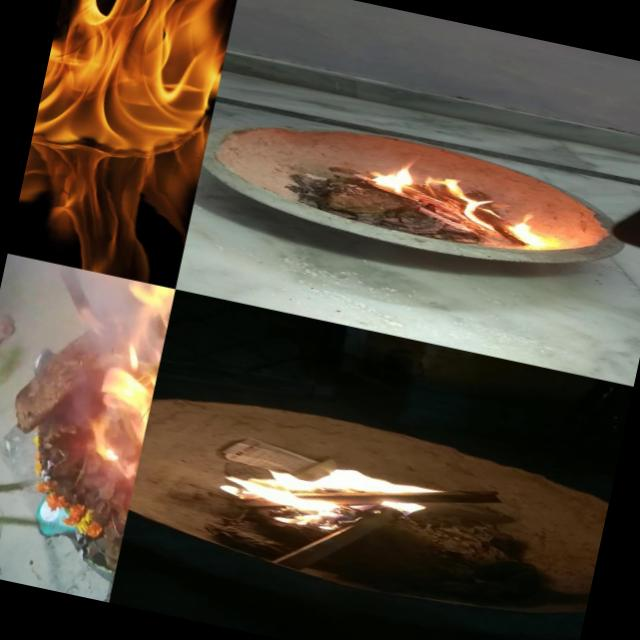fire: (29, 0, 241, 185), (209, 437, 447, 558), (79, 482, 132, 602), (351, 146, 426, 199), (427, 173, 496, 226), (501, 208, 560, 252), (0, 505, 28, 582)
smoke: (2, 296, 136, 532), (102, 315, 168, 486)
